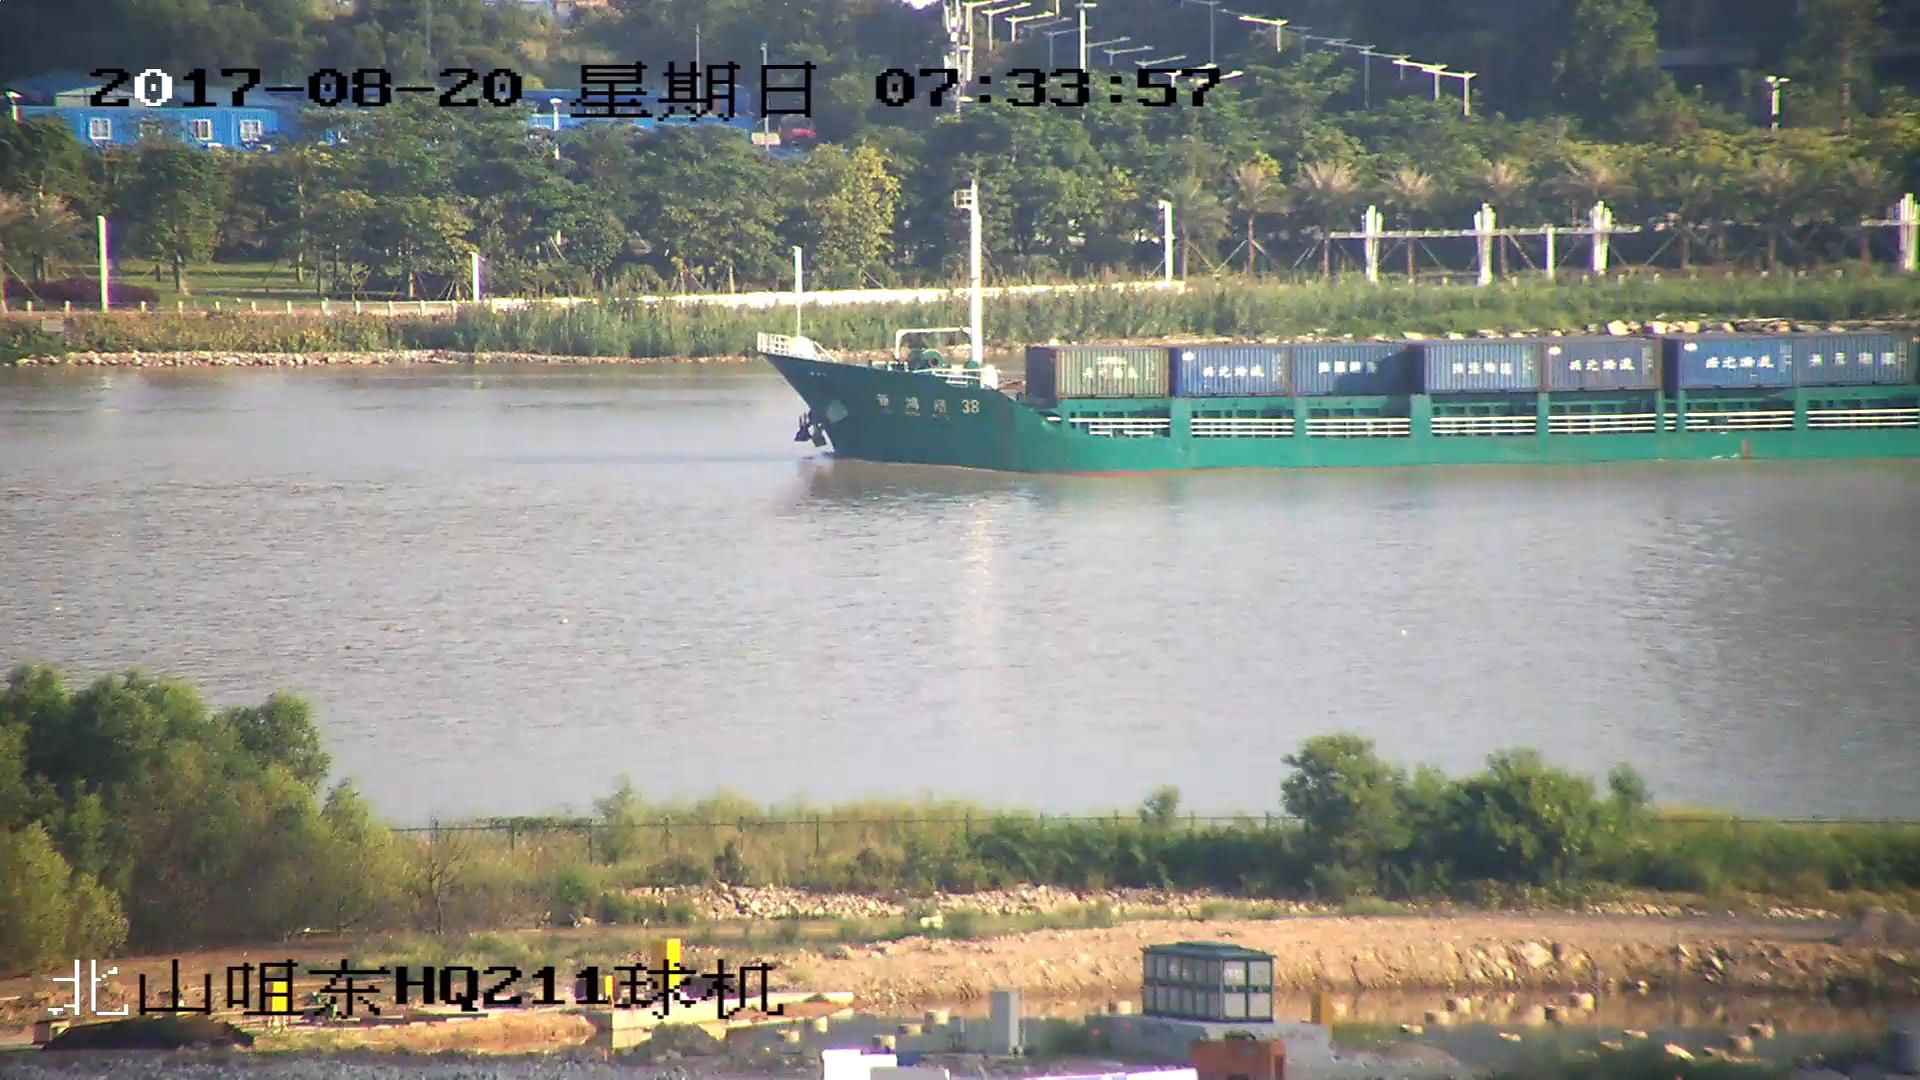general cargo ship: (757, 183, 1920, 475)
